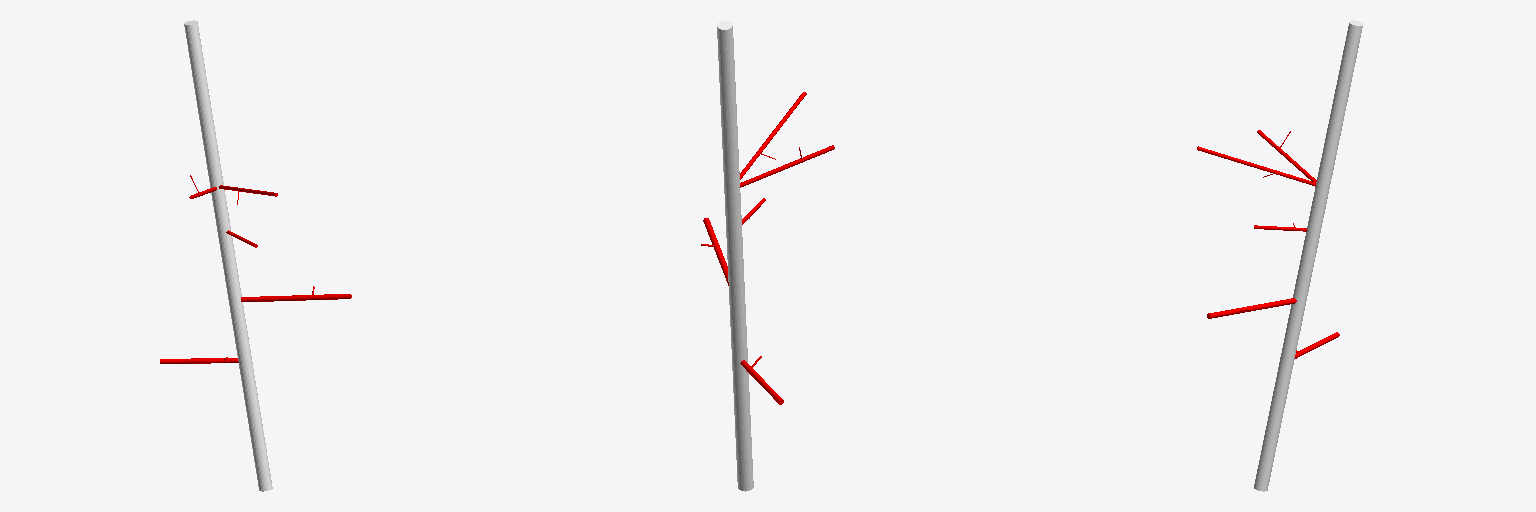
robot.urdf — tree_143.urdf:
<?xml version='1.0' encoding='UTF-8'?>
<robot name="tree_143.urdf">
  <link name="branch_0">
    <inertial>
      <origin xyz="0.0 0.0 0.0" rpy="0.0 -0.0 0.0"/>
      <mass value="0.1"/>
      <inertia ixx="0.001" ixy="0.0" ixz="0.0" iyy="0.001" iyz="0.0" izz="0.001"/>
    </inertial>
    <visual name="branch_0_visual">
      <geometry>
        <cylinder radius="0.1484810598235577" length="10.625592126716025"/>
      </geometry>
      <material name="branch_material"/>
      <origin xyz="-0.3540032784518366 0.999103963810749 5.205984533128714" rpy="0.0 0.20085969524363295 1.911315180204041"/>
    </visual>
    <collision name="branch_0_collision">
      <geometry>
        <cylinder radius="0.1484810598235577" length="10.625592126716025"/>
      </geometry>
      <origin xyz="-0.3540032784518366 0.999103963810749 5.205984533128714" rpy="0.0 0.20085969524363295 1.911315180204041"/>
    </collision>
  </link>
  <link name="branch_1">
    <inertial>
      <origin xyz="0.0 0.0 0.0" rpy="0.0 -0.0 0.0"/>
      <mass value="0.1"/>
      <inertia ixx="0.001" ixy="0.0" ixz="0.0" iyy="0.001" iyz="0.0" izz="0.001"/>
    </inertial>
    <visual name="branch_1_visual">
      <geometry>
        <cylinder radius="0.03837049719947378" length="1.2557015114228902"/>
      </geometry>
      <material name="semantic_material"/>
      <origin xyz="0.0 0.0 0.0" rpy="0.0 -0.0 0.0"/>
    </visual>
    <collision name="branch_1_collision">
      <geometry>
        <cylinder radius="0.03837049719947378" length="1.2557015114228902"/>
      </geometry>
      <origin xyz="0.0 0.0 0.0" rpy="0.0 -0.0 0.0"/>
    </collision>
  </link>
  <link name="branch_2">
    <inertial>
      <origin xyz="0.0 0.0 0.0" rpy="0.0 -0.0 0.0"/>
      <mass value="0.1"/>
      <inertia ixx="0.001" ixy="0.0" ixz="0.0" iyy="0.001" iyz="0.0" izz="0.001"/>
    </inertial>
    <visual name="branch_2_visual">
      <geometry>
        <cylinder radius="0.011369537119898632" length="0.15354989655710774"/>
      </geometry>
      <material name="semantic_material"/>
      <origin xyz="0.0 0.0 0.0" rpy="0.0 -0.0 0.0"/>
    </visual>
    <collision name="branch_2_collision">
      <geometry>
        <cylinder radius="0.011369537119898632" length="0.15354989655710774"/>
      </geometry>
      <origin xyz="0.0 0.0 0.0" rpy="0.0 -0.0 0.0"/>
    </collision>
  </link>
  <link name="branch_3">
    <inertial>
      <origin xyz="0.0 0.0 0.0" rpy="0.0 -0.0 0.0"/>
      <mass value="0.1"/>
      <inertia ixx="0.001" ixy="0.0" ixz="0.0" iyy="0.001" iyz="0.0" izz="0.001"/>
    </inertial>
    <visual name="branch_3_visual">
      <geometry>
        <cylinder radius="0.05612189584030637" length="1.8276511014531955"/>
      </geometry>
      <material name="semantic_material"/>
      <origin xyz="0.0 0.0 0.0" rpy="0.0 -0.0 0.0"/>
    </visual>
    <collision name="branch_3_collision">
      <geometry>
        <cylinder radius="0.05612189584030637" length="1.8276511014531955"/>
      </geometry>
      <origin xyz="0.0 0.0 0.0" rpy="0.0 -0.0 0.0"/>
    </collision>
  </link>
  <link name="branch_4">
    <inertial>
      <origin xyz="0.0 0.0 0.0" rpy="0.0 -0.0 0.0"/>
      <mass value="0.1"/>
      <inertia ixx="0.001" ixy="0.0" ixz="0.0" iyy="0.001" iyz="0.0" izz="0.001"/>
    </inertial>
    <visual name="branch_4_visual">
      <geometry>
        <cylinder radius="0.02024257765146196" length="0.3361920197467583"/>
      </geometry>
      <material name="semantic_material"/>
      <origin xyz="0.0 0.0 0.0" rpy="0.0 -0.0 0.0"/>
    </visual>
    <collision name="branch_4_collision">
      <geometry>
        <cylinder radius="0.02024257765146196" length="0.3361920197467583"/>
      </geometry>
      <origin xyz="0.0 0.0 0.0" rpy="0.0 -0.0 0.0"/>
    </collision>
  </link>
  <link name="branch_5">
    <inertial>
      <origin xyz="0.0 0.0 0.0" rpy="0.0 -0.0 0.0"/>
      <mass value="0.1"/>
      <inertia ixx="0.001" ixy="0.0" ixz="0.0" iyy="0.001" iyz="0.0" izz="0.001"/>
    </inertial>
    <visual name="branch_5_visual">
      <geometry>
        <cylinder radius="0.05849657710739094" length="2.6297329344909857"/>
      </geometry>
      <material name="semantic_material"/>
      <origin xyz="0.0 0.0 0.0" rpy="0.0 -0.0 0.0"/>
    </visual>
    <collision name="branch_5_collision">
      <geometry>
        <cylinder radius="0.05849657710739094" length="2.6297329344909857"/>
      </geometry>
      <origin xyz="0.0 0.0 0.0" rpy="0.0 -0.0 0.0"/>
    </collision>
  </link>
  <link name="branch_6">
    <inertial>
      <origin xyz="0.0 0.0 0.0" rpy="0.0 -0.0 0.0"/>
      <mass value="0.1"/>
      <inertia ixx="0.001" ixy="0.0" ixz="0.0" iyy="0.001" iyz="0.0" izz="0.001"/>
    </inertial>
    <visual name="branch_6_visual">
      <geometry>
        <cylinder radius="0.019341610528168462" length="0.33255655562915637"/>
      </geometry>
      <material name="semantic_material"/>
      <origin xyz="0.0 0.0 0.0" rpy="0.0 -0.0 0.0"/>
    </visual>
    <collision name="branch_6_collision">
      <geometry>
        <cylinder radius="0.019341610528168462" length="0.33255655562915637"/>
      </geometry>
      <origin xyz="0.0 0.0 0.0" rpy="0.0 -0.0 0.0"/>
    </collision>
  </link>
  <link name="branch_7">
    <inertial>
      <origin xyz="0.0 0.0 0.0" rpy="0.0 -0.0 0.0"/>
      <mass value="0.1"/>
      <inertia ixx="0.001" ixy="0.0" ixz="0.0" iyy="0.001" iyz="0.0" izz="0.001"/>
    </inertial>
    <visual name="branch_7_visual">
      <geometry>
        <cylinder radius="0.04300190755064898" length="2.0512962826932886"/>
      </geometry>
      <material name="semantic_material"/>
      <origin xyz="0.0 0.0 0.0" rpy="0.0 -0.0 0.0"/>
    </visual>
    <collision name="branch_7_collision">
      <geometry>
        <cylinder radius="0.04300190755064898" length="2.0512962826932886"/>
      </geometry>
      <origin xyz="0.0 0.0 0.0" rpy="0.0 -0.0 0.0"/>
    </collision>
  </link>
  <link name="branch_8">
    <inertial>
      <origin xyz="0.0 0.0 0.0" rpy="0.0 -0.0 0.0"/>
      <mass value="0.1"/>
      <inertia ixx="0.001" ixy="0.0" ixz="0.0" iyy="0.001" iyz="0.0" izz="0.001"/>
    </inertial>
    <visual name="branch_8_visual">
      <geometry>
        <cylinder radius="0.011369357984025582" length="0.46423077838069104"/>
      </geometry>
      <material name="semantic_material"/>
      <origin xyz="0.0 0.0 0.0" rpy="0.0 -0.0 0.0"/>
    </visual>
    <collision name="branch_8_collision">
      <geometry>
        <cylinder radius="0.011369357984025582" length="0.46423077838069104"/>
      </geometry>
      <origin xyz="0.0 0.0 0.0" rpy="0.0 -0.0 0.0"/>
    </collision>
  </link>
  <link name="branch_9">
    <inertial>
      <origin xyz="0.0 0.0 0.0" rpy="0.0 -0.0 0.0"/>
      <mass value="0.1"/>
      <inertia ixx="0.001" ixy="0.0" ixz="0.0" iyy="0.001" iyz="0.0" izz="0.001"/>
    </inertial>
    <visual name="branch_9_visual">
      <geometry>
        <cylinder radius="0.0410046989286898" length="2.765753696955765"/>
      </geometry>
      <material name="semantic_material"/>
      <origin xyz="0.0 0.0 0.0" rpy="0.0 -0.0 0.0"/>
    </visual>
    <collision name="branch_9_collision">
      <geometry>
        <cylinder radius="0.0410046989286898" length="2.765753696955765"/>
      </geometry>
      <origin xyz="0.0 0.0 0.0" rpy="0.0 -0.0 0.0"/>
    </collision>
  </link>
  <link name="branch_10">
    <inertial>
      <origin xyz="0.0 0.0 0.0" rpy="0.0 -0.0 0.0"/>
      <mass value="0.1"/>
      <inertia ixx="0.001" ixy="0.0" ixz="0.0" iyy="0.001" iyz="0.0" izz="0.001"/>
    </inertial>
    <visual name="branch_10_visual">
      <geometry>
        <cylinder radius="0.01" length="0.40182720659059007"/>
      </geometry>
      <material name="semantic_material"/>
      <origin xyz="0.0 0.0 0.0" rpy="0.0 -0.0 0.0"/>
    </visual>
    <collision name="branch_10_collision">
      <geometry>
        <cylinder radius="0.01" length="0.40182720659059007"/>
      </geometry>
      <origin xyz="0.0 0.0 0.0" rpy="0.0 -0.0 0.0"/>
    </collision>
  </link>
  <joint name="joint_0_1" type="fixed">
    <parent link="branch_0"/>
    <child link="branch_1"/>
    <axis xyz="1. 0. 0."/>
    <origin xyz="-0.3548460730593643 0.4853194957652781 5.8358615763654065" rpy="0.573288607207625 1.4690382983369794 -0.9338066000472515"/>
  </joint>
  <joint name="joint_0_3" type="fixed">
    <parent link="branch_0"/>
    <child link="branch_3"/>
    <axis xyz="1. 0. 0."/>
    <origin xyz="-0.9402644455753012 1.0782919423921988 2.8228641036833677" rpy="2.012614469238473 1.442606183411134 -1.7478332165295853"/>
  </joint>
  <joint name="joint_0_5" type="fixed">
    <parent link="branch_0"/>
    <child link="branch_5"/>
    <axis xyz="1. 0. 0."/>
    <origin xyz="0.59350870997354 -0.14020253001516272 4.445473758454126" rpy="-0.43304409983114567 1.3843425088568018 -1.2634144108725838"/>
  </joint>
  <joint name="joint_0_7" type="fixed">
    <parent link="branch_0"/>
    <child link="branch_7"/>
    <axis xyz="1. 0. 0."/>
    <origin xyz="-1.1658328823100184 0.6229543232820605 7.046685440283563" rpy="0.5147738146704318 1.2005223616378773 -1.8407640922584743"/>
  </joint>
  <joint name="joint_0_9" type="fixed">
    <parent link="branch_0"/>
    <child link="branch_9"/>
    <axis xyz="1. 0. 0."/>
    <origin xyz="-0.4784279568695918 -0.015447027040619335 7.1921169611116" rpy="0.2070010397231817 1.241878397490104 -1.3669852070364277"/>
  </joint>
  <joint name="joint_1_2" type="fixed">
    <parent link="branch_0"/>
    <child link="branch_2"/>
    <axis xyz="1. 0. 0."/>
    <origin xyz="-0.43090423426710833 0.7056204627002325 5.85304078833571" rpy="-1.0449781528285211 -0.09032302990561371 1.932101202958777"/>
  </joint>
  <joint name="joint_3_4" type="fixed">
    <parent link="branch_0"/>
    <child link="branch_4"/>
    <axis xyz="1. 0. 0."/>
    <origin xyz="-0.6048661181203784 0.6797460737575699 2.9478775013938376" rpy="0.9369853737086699 0.0815706168920716 -0.43141529740363466"/>
  </joint>
  <joint name="joint_5_6" type="fixed">
    <parent link="branch_0"/>
    <child link="branch_6"/>
    <axis xyz="1. 0. 0."/>
    <origin xyz="0.9820583775207364 -0.3325993531528066 4.571438074418306" rpy="1.2526540640425978 0.22139567184843398 2.4717666141296846"/>
  </joint>
  <joint name="joint_7_8" type="fixed">
    <parent link="branch_0"/>
    <child link="branch_8"/>
    <axis xyz="1. 0. 0."/>
    <origin xyz="-1.468690941073258 0.5047376630610471 7.354859142697713" rpy="-0.5454402030264328 0.2872686573245082 0.7766890898231401"/>
  </joint>
  <joint name="joint_9_10" type="fixed">
    <parent link="branch_0"/>
    <child link="branch_10"/>
    <axis xyz="1. 0. 0."/>
    <origin xyz="-0.5731135605962362 0.19622395215103272 6.975062877662841" rpy="-2.304269775879144 0.7479428779315876 1.9846649267014846"/>
  </joint>
  <material name="branch_material">
    <color rgba="1. 1. 1. 1."/>
  </material>
  <material name="semantic_material">
    <color rgba="1. 0. 0. 1."/>
  </material>
</robot>

--- Render facts (derived) ---
The picture shows the robot from 3 angles, left to right: view 1: azimuth 30°, elevation 25°; view 2: azimuth 150°, elevation 25°; view 3: azimuth 270°, elevation 25°; orthographic projection.
Robot: tree_143.urdf — 11 links, 10 joints (10 fixed); root link branch_0; default pose: every joint at zero.
Links seen in each view (by area): view 1: branch_0, branch_5; view 2: branch_0; view 3: branch_0.
Boxes of the visible links, x1,y1,x2,y2 form: branch_0: (184,20,272,491); branch_5: (241,294,351,301); branch_0: (717,20,753,491); branch_0: (1254,20,1362,491).
Size in the robot's own frame: 3.42 by 3.48 by 10.47 metres.
Geometry: primitives only (box / cylinder / sphere), no mesh files.
